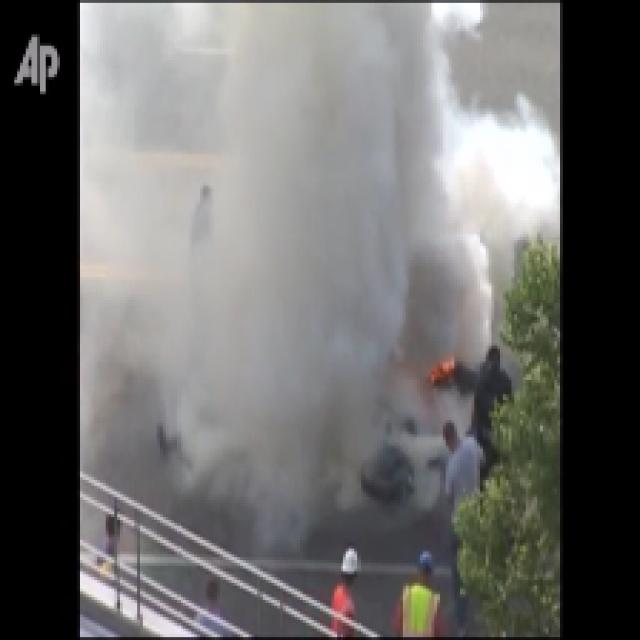smoke: (234, 25, 472, 457), (102, 22, 223, 397)
